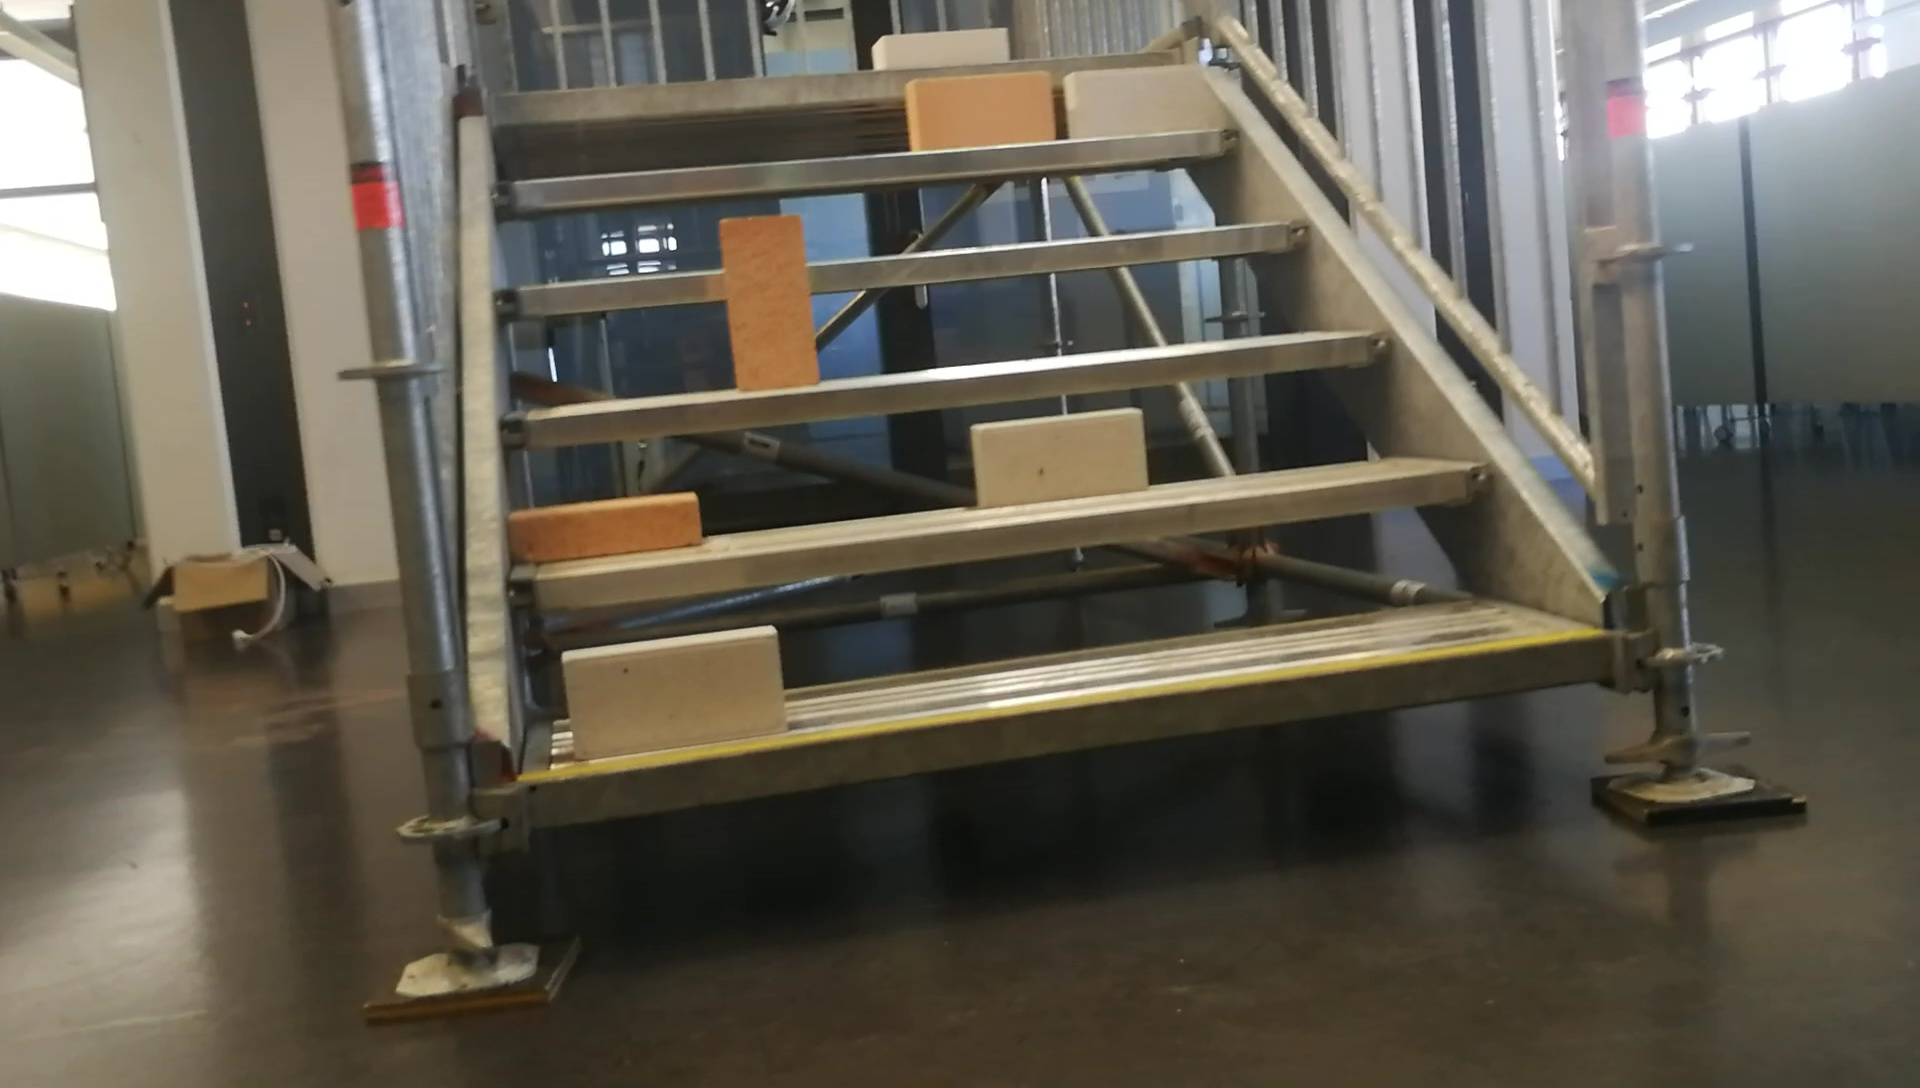brick: (566, 625, 781, 754), (723, 215, 818, 390), (972, 411, 1145, 506), (508, 489, 700, 560), (905, 73, 1050, 146), (1064, 70, 1203, 137), (873, 30, 1007, 67)
edge: (527, 633, 1601, 820), (502, 463, 1495, 608), (498, 332, 1393, 446), (492, 218, 1305, 315), (495, 129, 1242, 206), (495, 51, 1178, 117)
stairs: (360, 8, 1807, 1015)
steps: (491, 22, 1613, 848)
